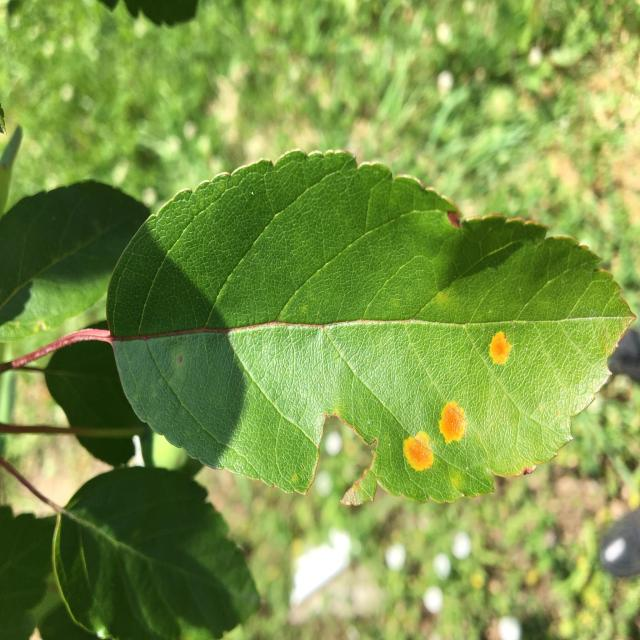Rust: (433, 396, 473, 457), (482, 321, 518, 372), (402, 428, 437, 474)
